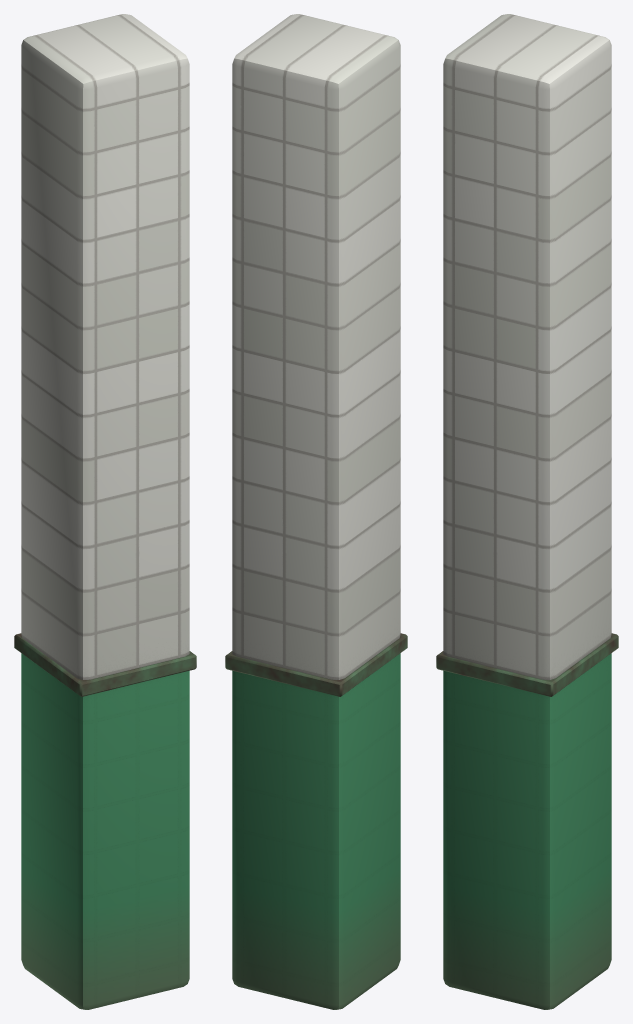
Rendered from g67_pz_corner_in.glb.
3 renders of one model, left to right at view 1: azimuth 30°, elevation 25°; view 2: azimuth 150°, elevation 25°; view 3: azimuth 330°, elevation 25°, orthographic.
Visible parts, largest first — view 1: g67_pz_corner_in; view 2: g67_pz_corner_in; view 3: g67_pz_corner_in.
Part boxes in pixels (bbox=[...]): g67_pz_corner_in: bbox=[14, 14, 196, 1009]; g67_pz_corner_in: bbox=[225, 14, 407, 1009]; g67_pz_corner_in: bbox=[436, 14, 618, 1009].
Size of the model in its own units: 0.42 by 3.2 by 0.42.
1 material, 1 textured.
